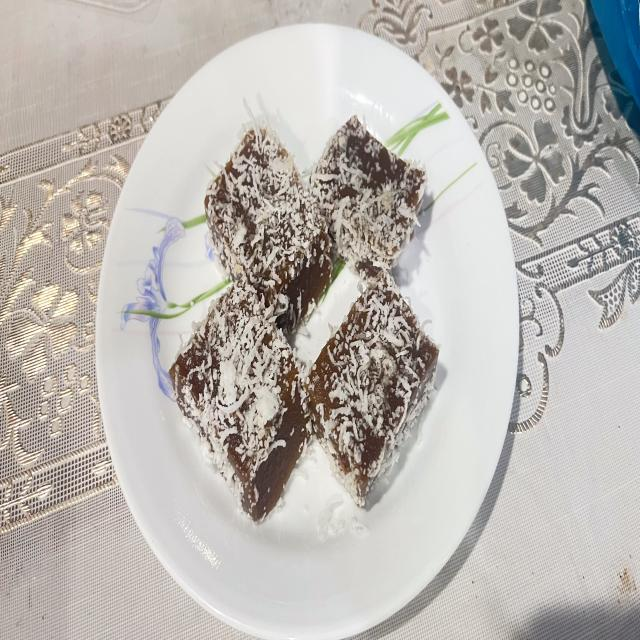kaswi: (170, 280, 311, 522), (306, 271, 439, 507), (205, 122, 332, 331), (310, 116, 428, 278)
